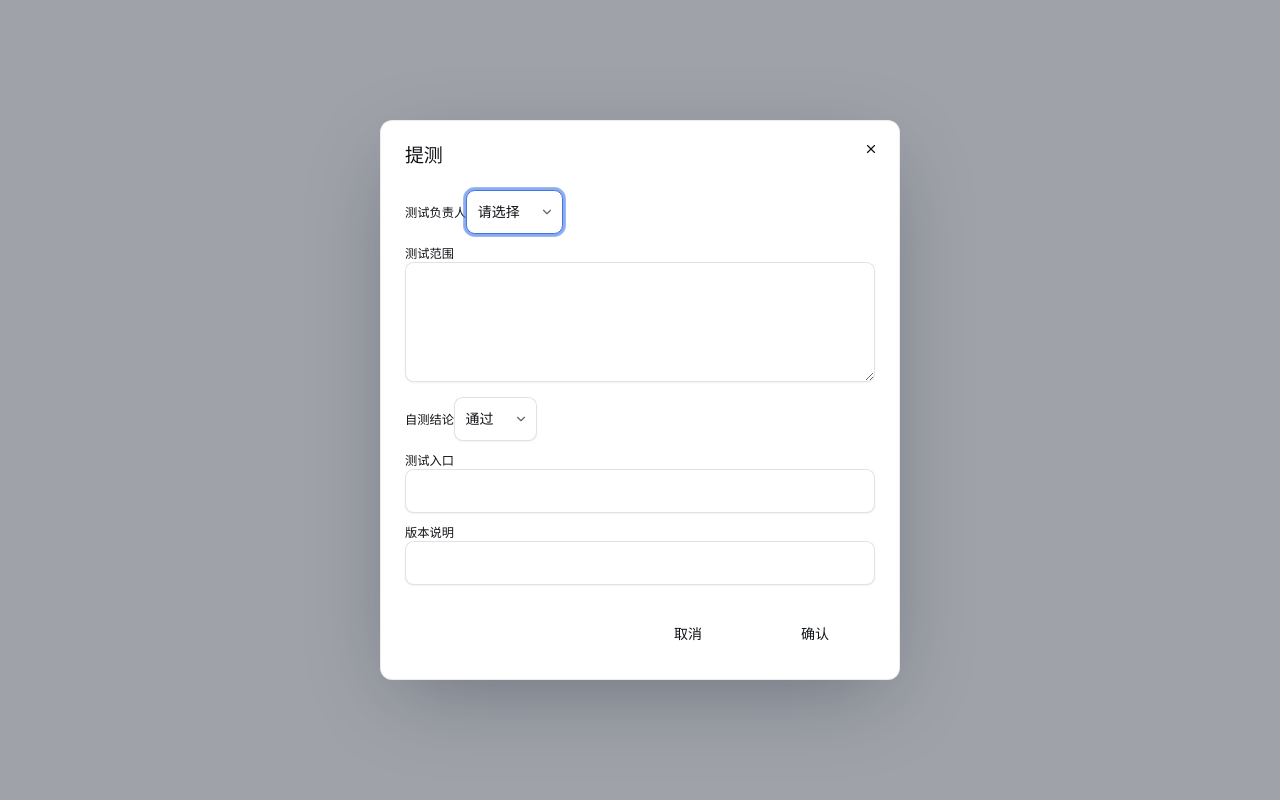
Test case: RequirementActionDialog › 提测缺少测试负责人时本地校验阻止提交
The width and height of the screenshot is (1280, 800).
Click the button "确认" at (815, 633), box x1=755 y1=611 x2=875 y2=655
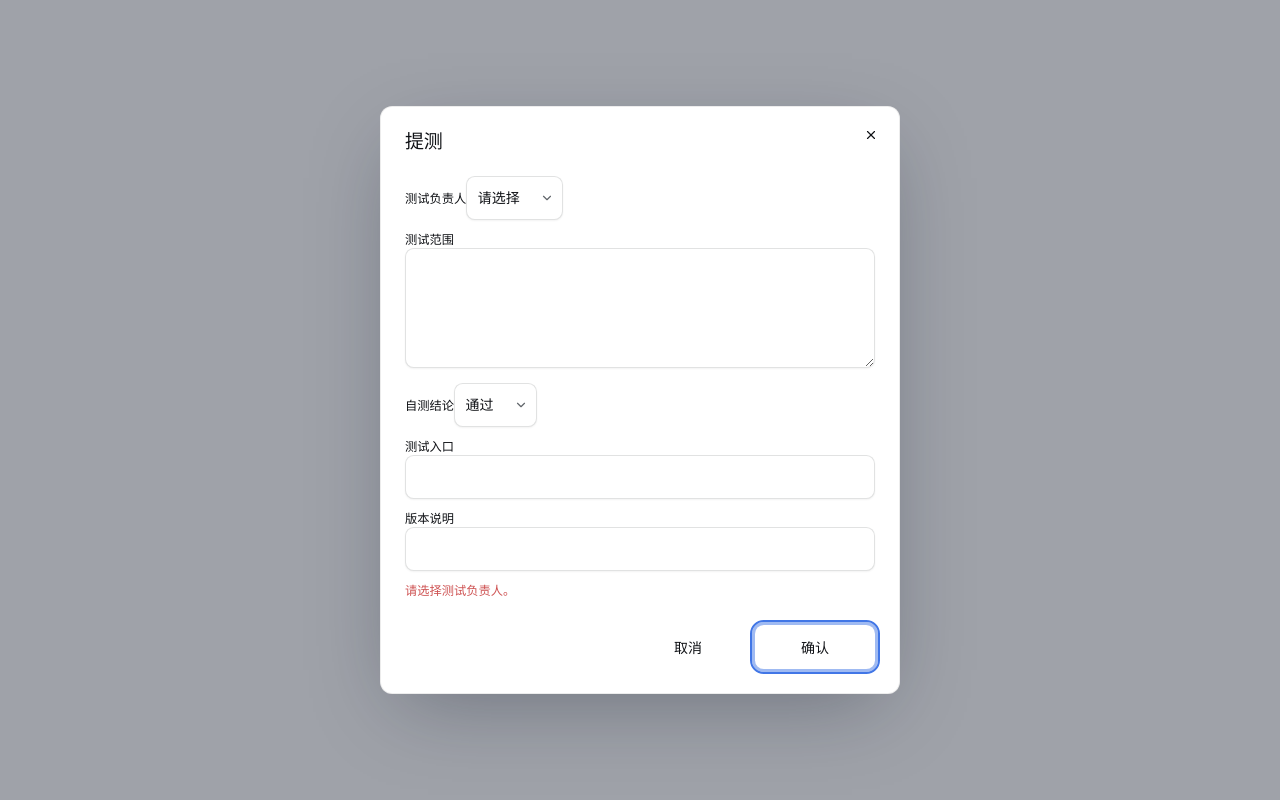
Expected: the message shows "请选择测试负责人", x1=405 y1=582 x2=515 y2=598
